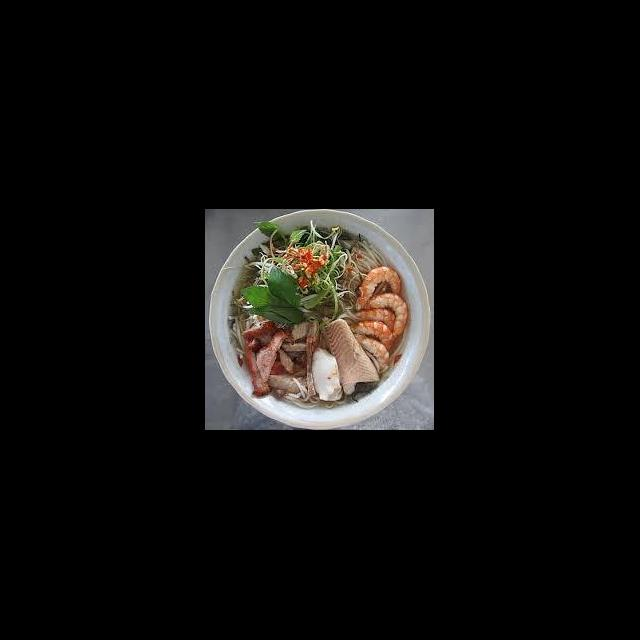bun: (342, 234, 388, 298)
ca: (320, 316, 382, 396), (310, 346, 344, 404)
thit heo quay: (240, 334, 272, 400), (254, 328, 290, 384), (302, 332, 318, 400), (240, 316, 278, 341)
tom: (362, 290, 411, 340), (354, 264, 404, 312), (349, 332, 392, 372), (350, 320, 396, 356), (352, 306, 398, 338)
